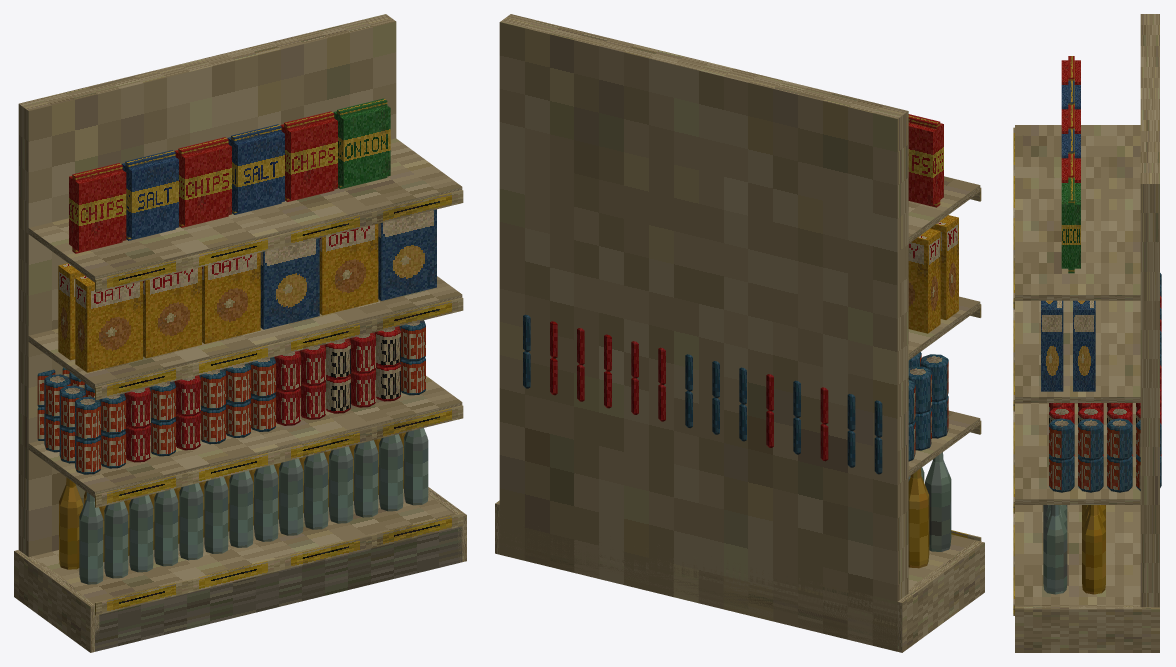
File: PSX_ShelvesPropsHorrorItemsStoreShelf.glb
3 renders of one model, left to right at view 1: azimuth 30°, elevation 25°; view 2: azimuth 150°, elevation 25°; view 3: azimuth 270°, elevation 25°, orthographic. The views are drawn at different scales.
Parts seen in each view (by area): view 1: StoreShelf; view 2: StoreShelf; view 3: StoreShelf.
Part boxes in pixels (x1,y1,x2,y2): StoreShelf: (14,14,466,652); StoreShelf: (495,14,984,652); StoreShelf: (1013,14,1161,652).
Bounding box in the file's own units: 1.28 × 1.6 × 0.4605.
14 materials, 14 textured.
